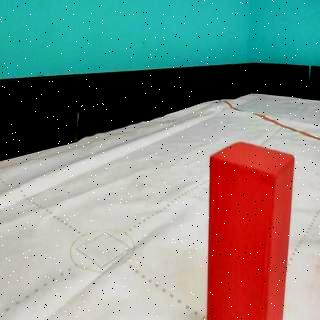redbox: (208, 139, 296, 320)
